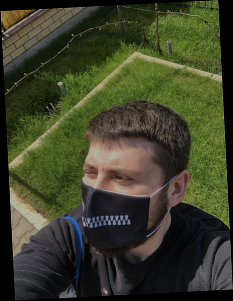with_mask: (80, 152, 156, 257)
